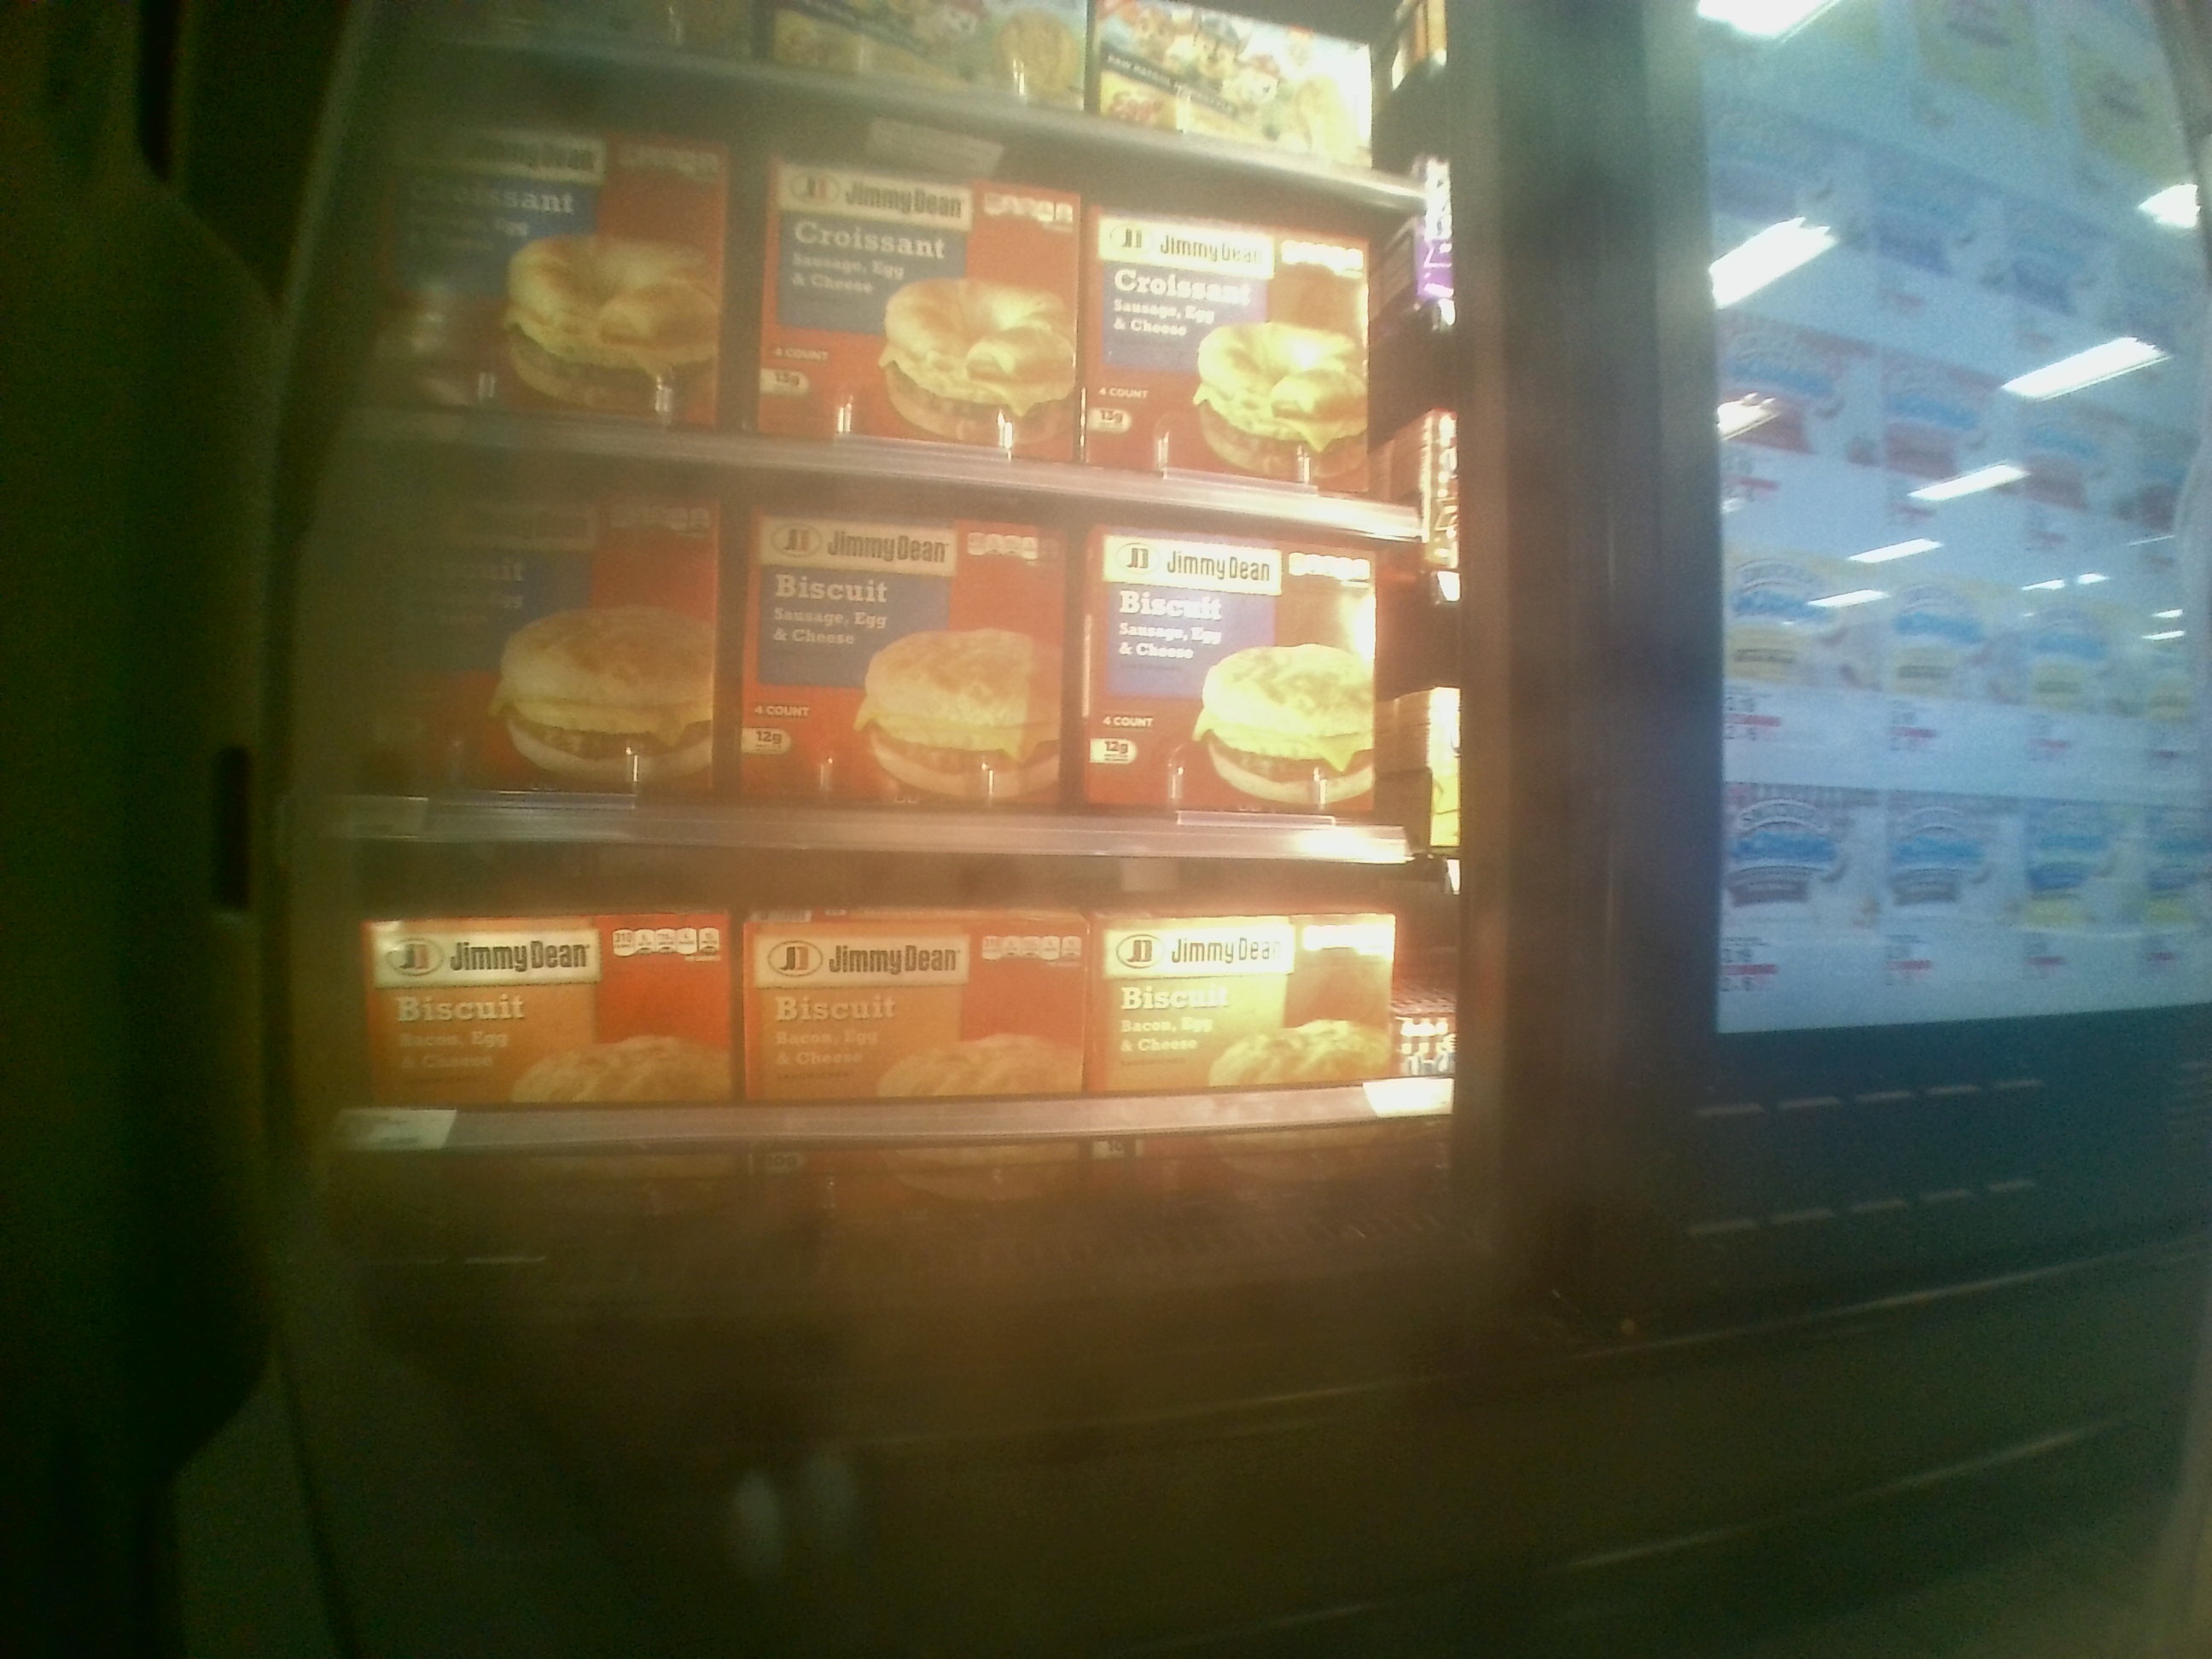shelf: (336, 831, 1451, 1148)
